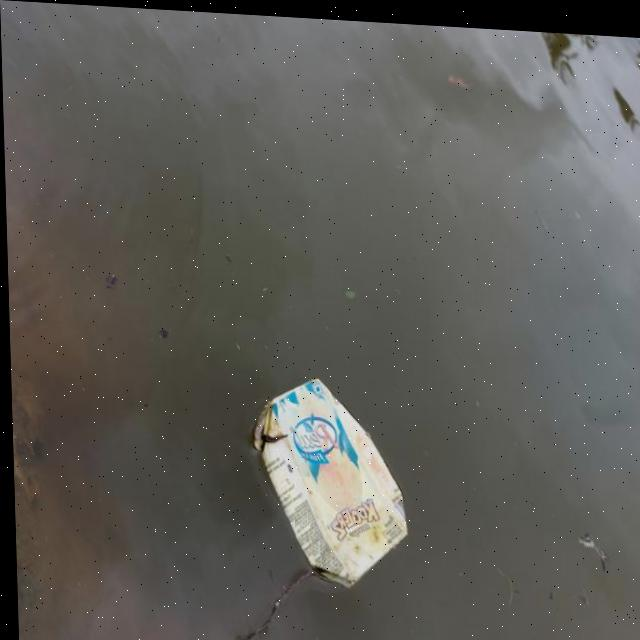paper: (223, 366, 396, 634)
